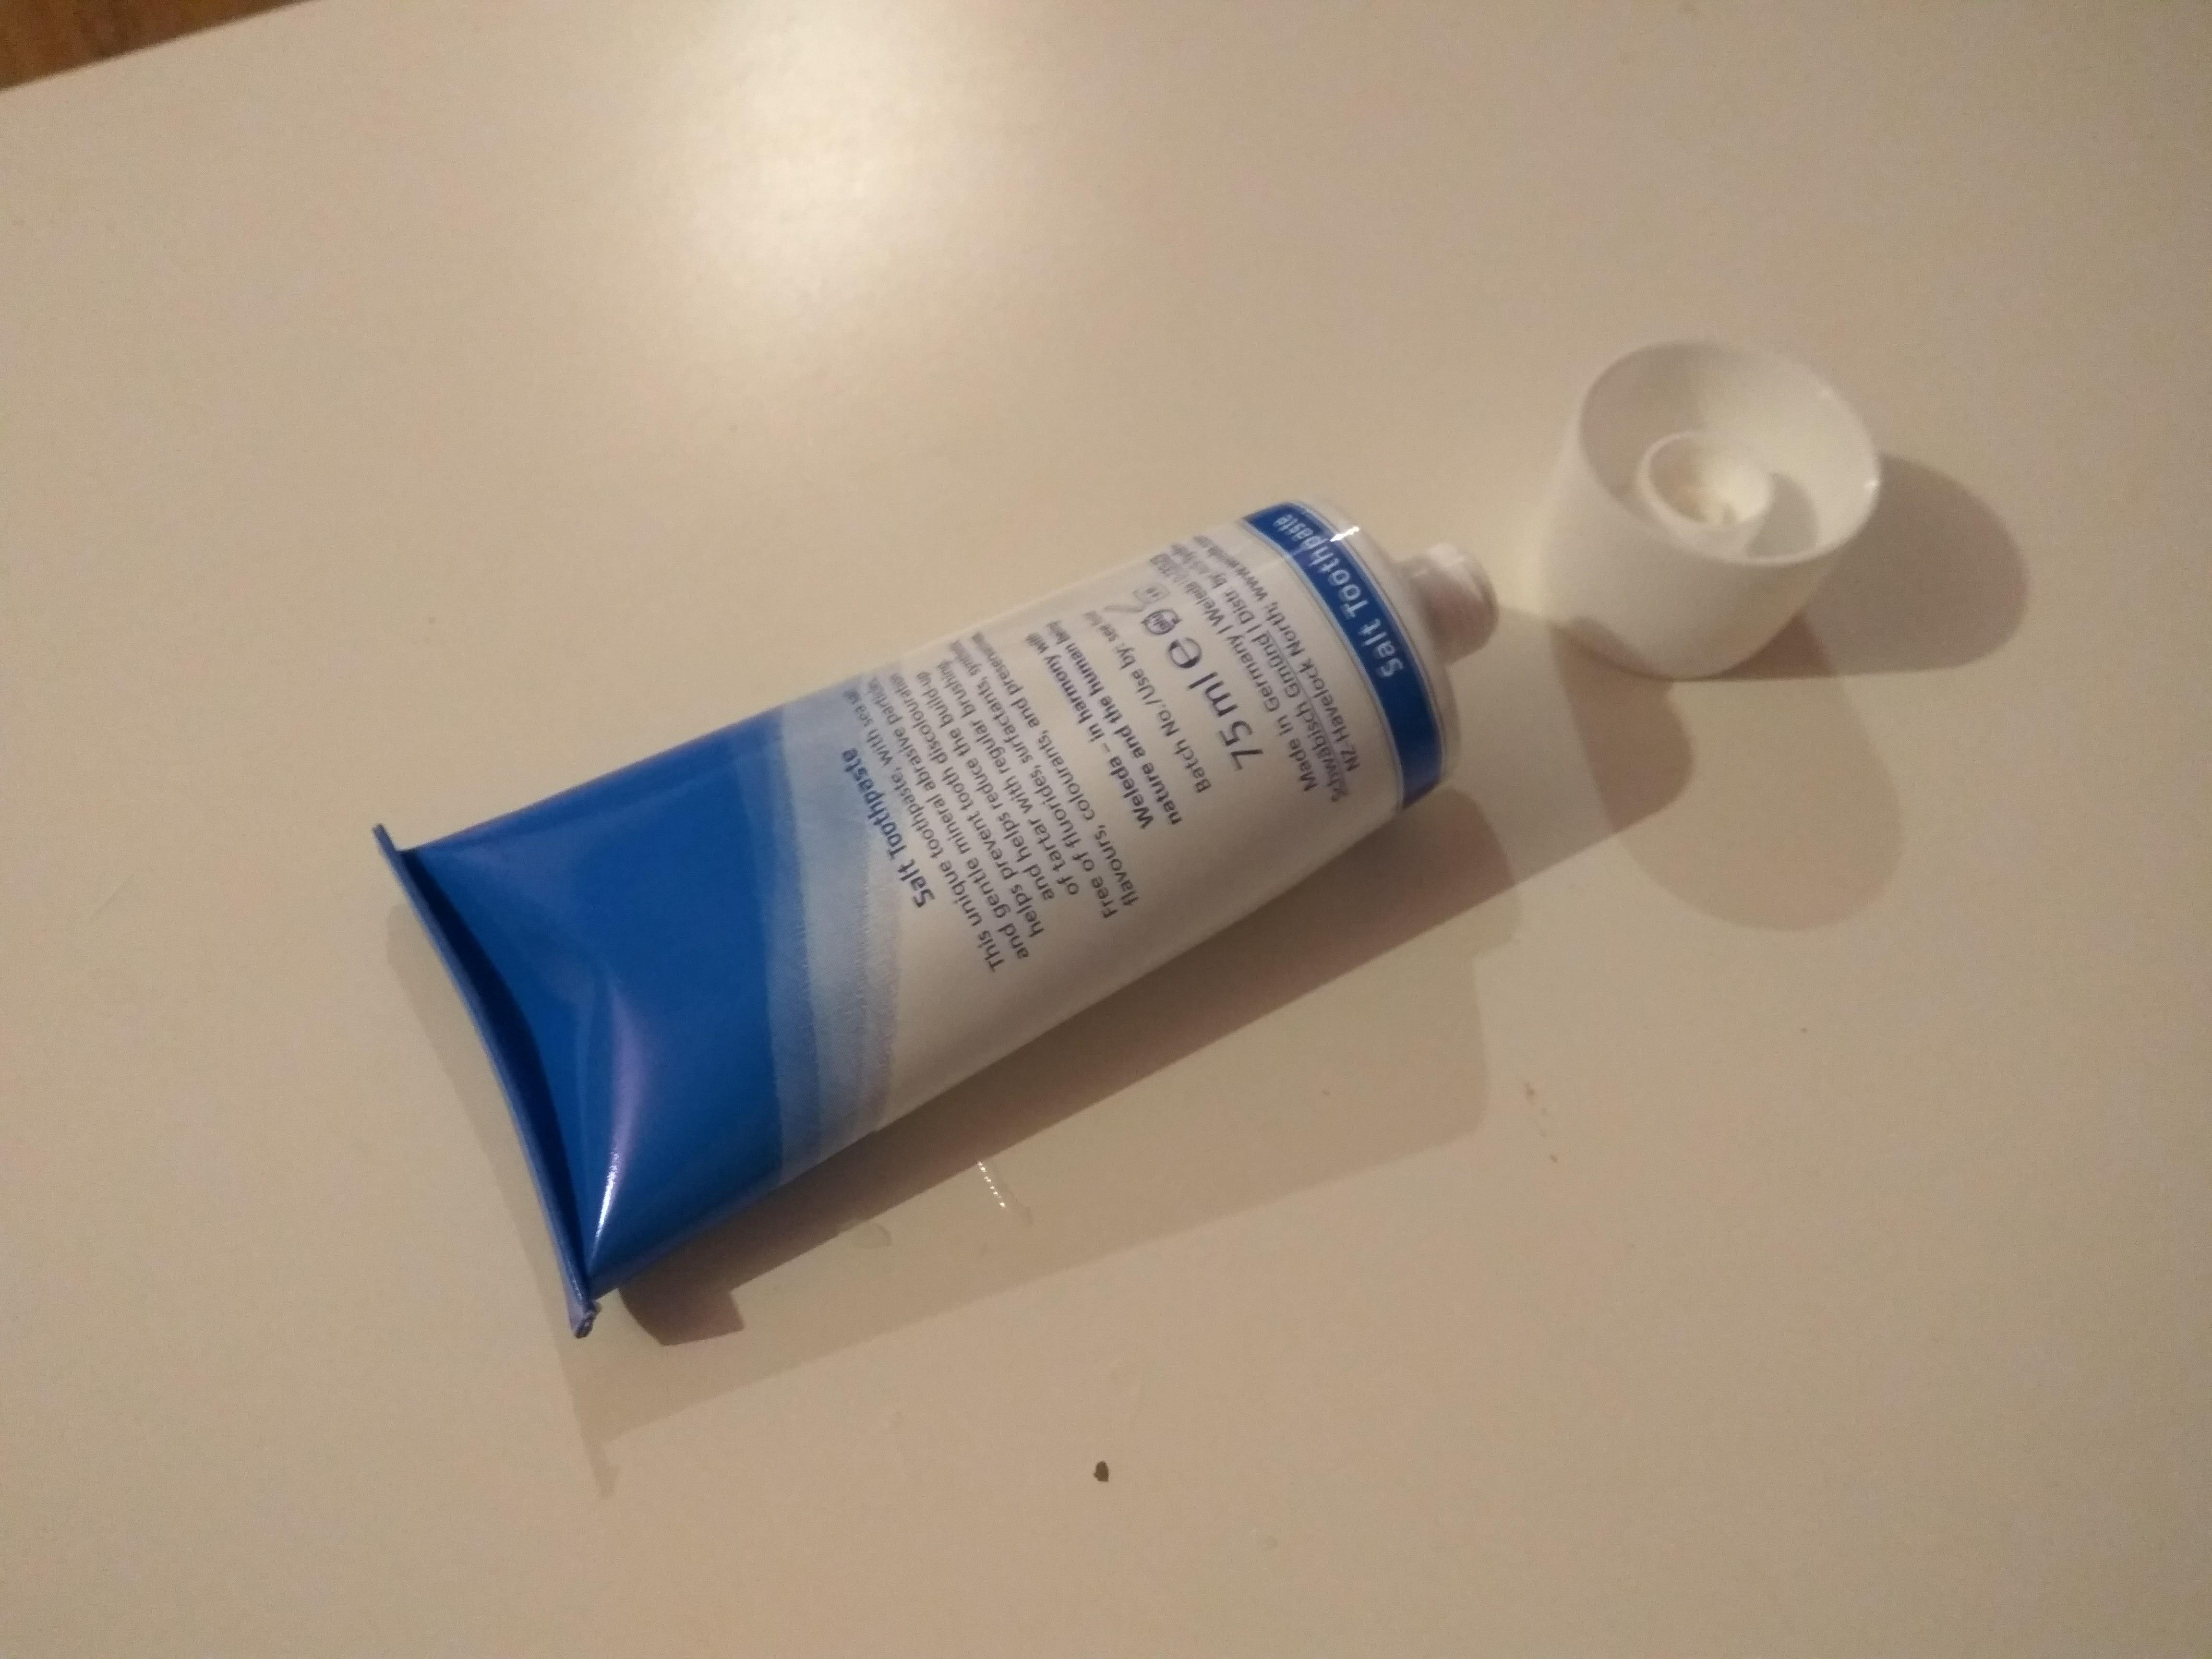toothpaste: (323, 458, 1557, 1390)
